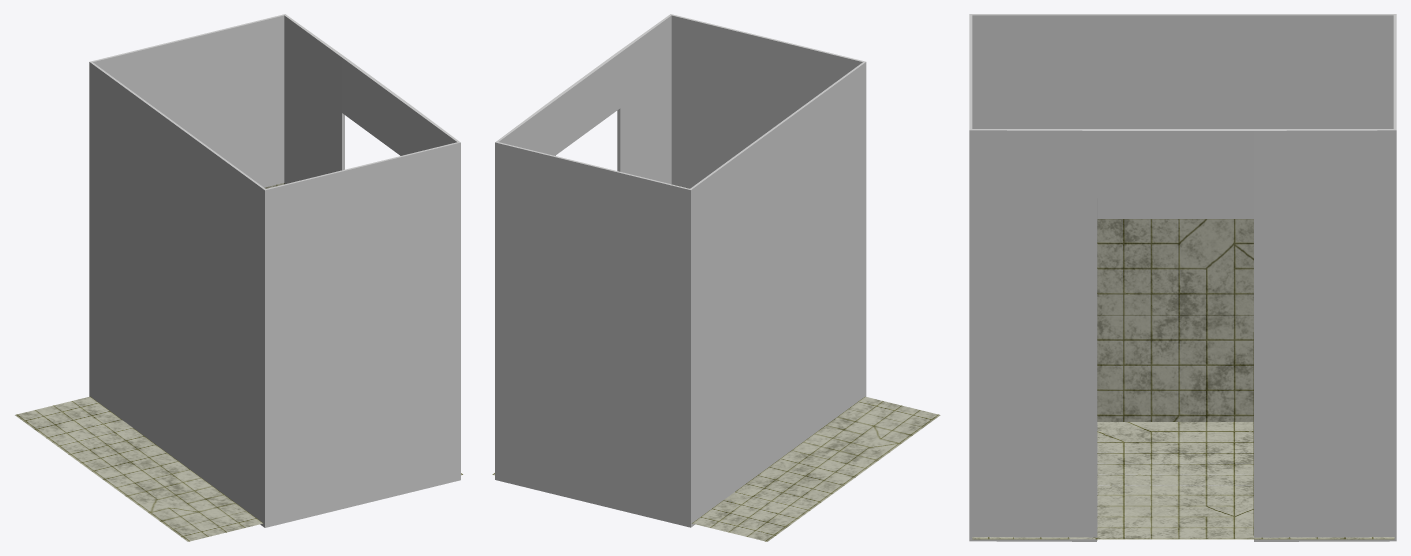
The model's file is Room_Bathroom.fbx.
3 views of the same model, side by side, from view 1: azimuth 30°, elevation 25°; view 2: azimuth 150°, elevation 25°; view 3: azimuth 270°, elevation 25° (orthographic). The views are drawn at different scales.
Parts seen in each view (by area): view 1: Walls.002, Plane.012; view 2: Walls.002, Plane.012; view 3: Walls.002, Walls.001, Plane.012.
Part boxes in pixels (x1,y1,x2,y2): Walls.002: [89, 14, 460, 527]; Plane.012: [15, 396, 462, 541]; Walls.002: [495, 14, 866, 527]; Plane.012: [492, 396, 940, 541]; Walls.002: [969, 14, 1396, 541]; Walls.001: [1097, 219, 1253, 535]; Plane.012: [972, 422, 1394, 539].
Size of the model in its own units: 314 by 368 by 347.
Materials: 2 (1 with a texture image).
